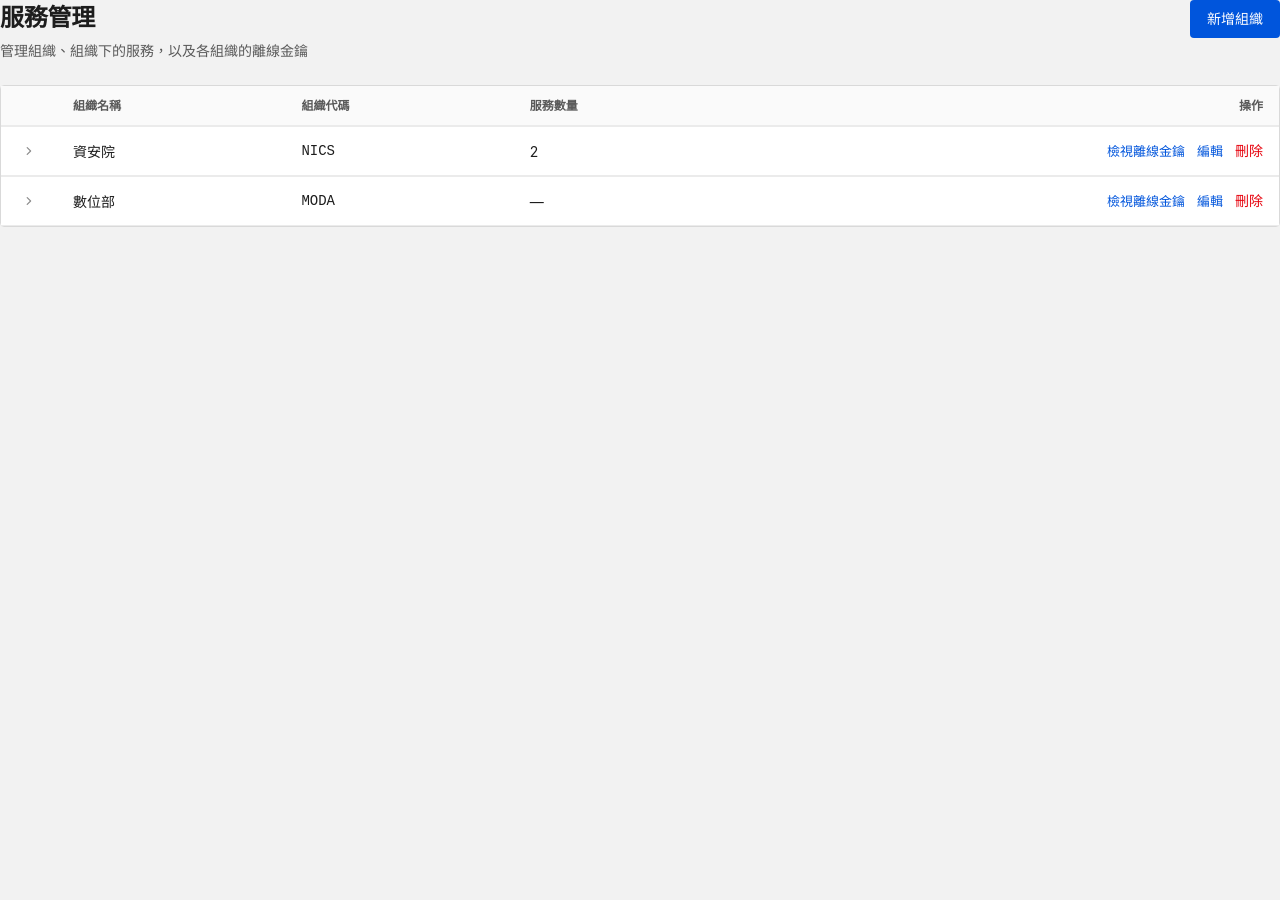
it: ServicesPage organizations › shows the API message when creating an organization fails
Expected: the text "資安院" is shown, [57, 126, 285, 176]
Click the button "新增組織" at (1235, 19), box [1190, 0, 1279, 38]
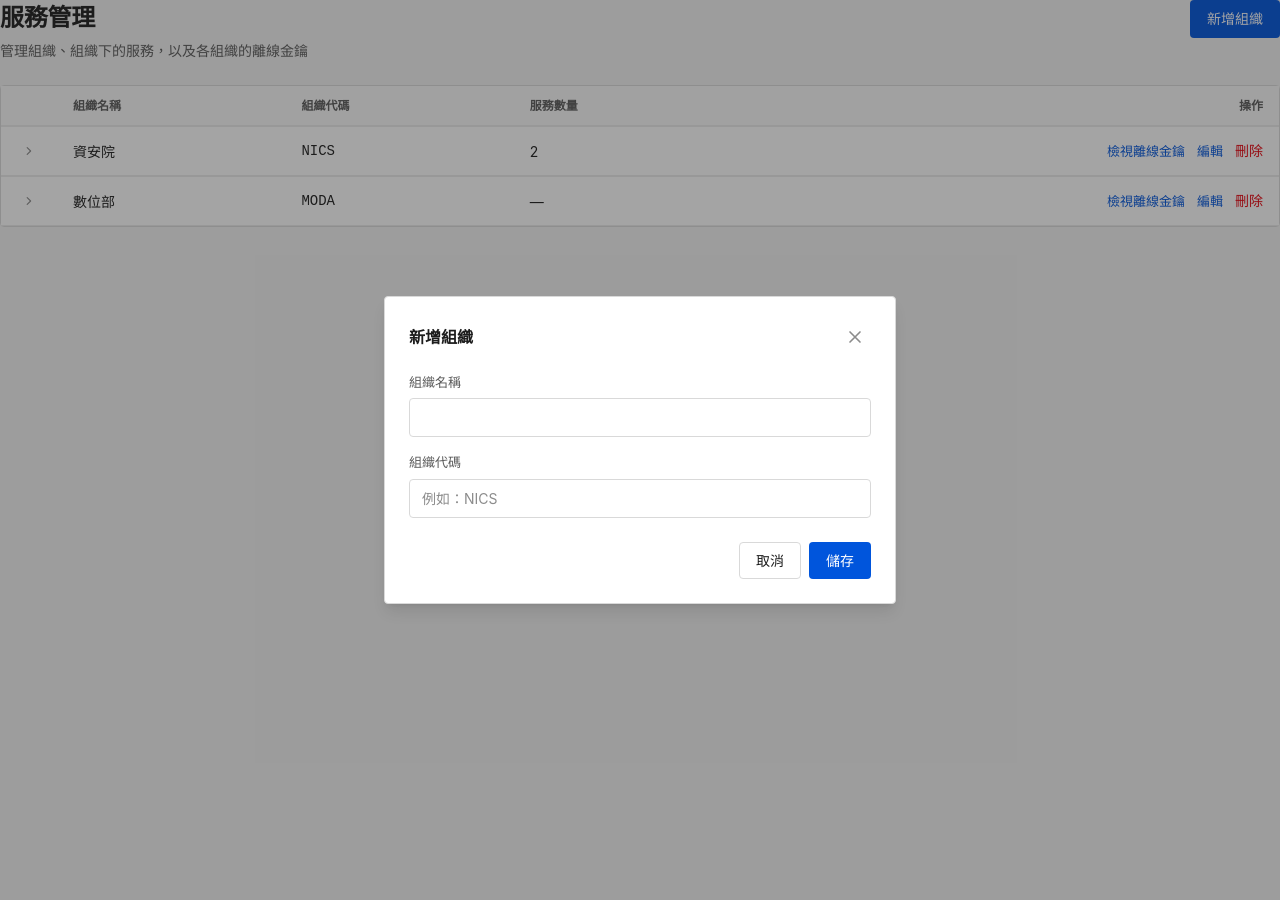
Type "新組織" into the field labelled "組織名稱" at (640, 418), box [409, 398, 871, 437]
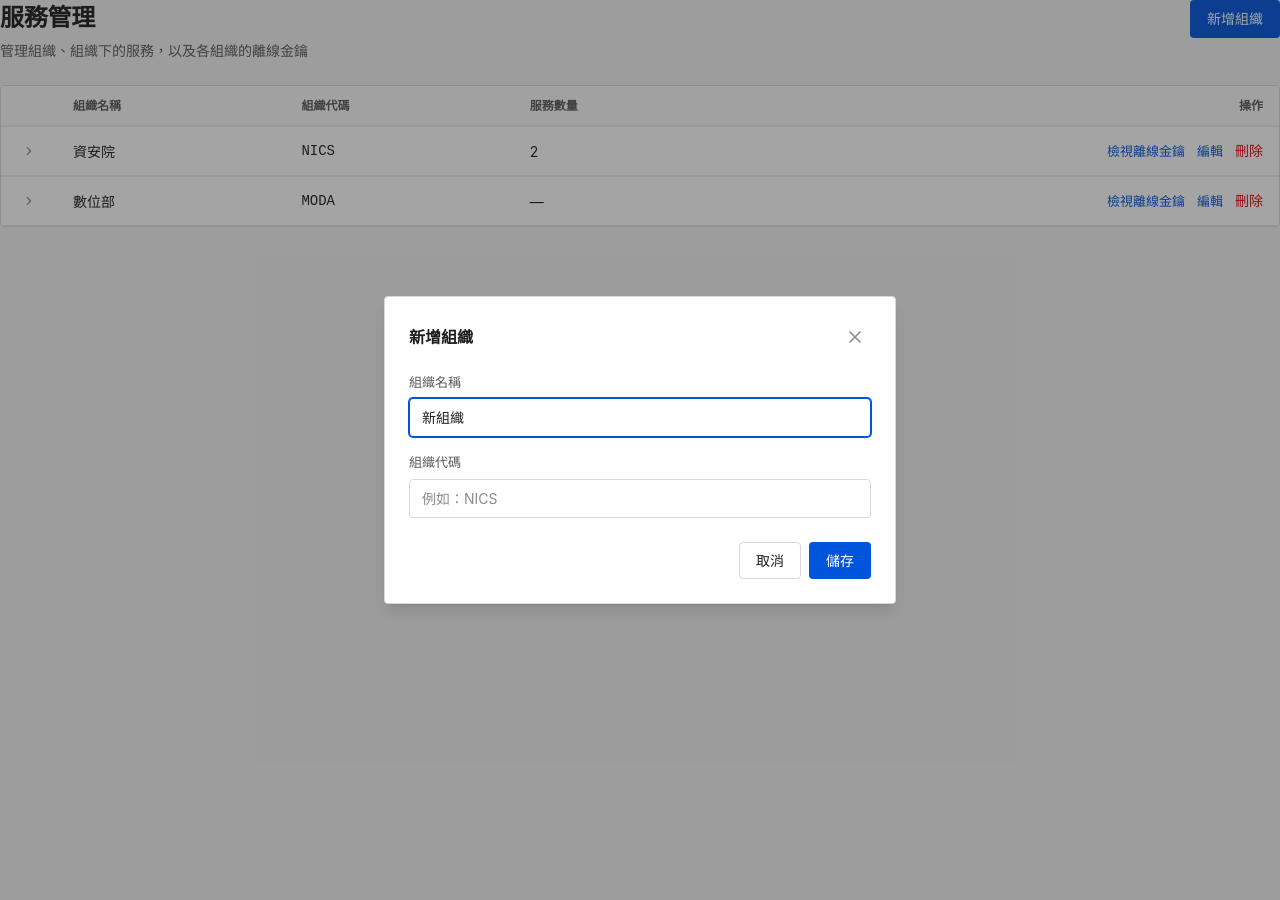
Type "NICS" into the field labelled "組織代碼" at (640, 498), box [409, 479, 871, 518]
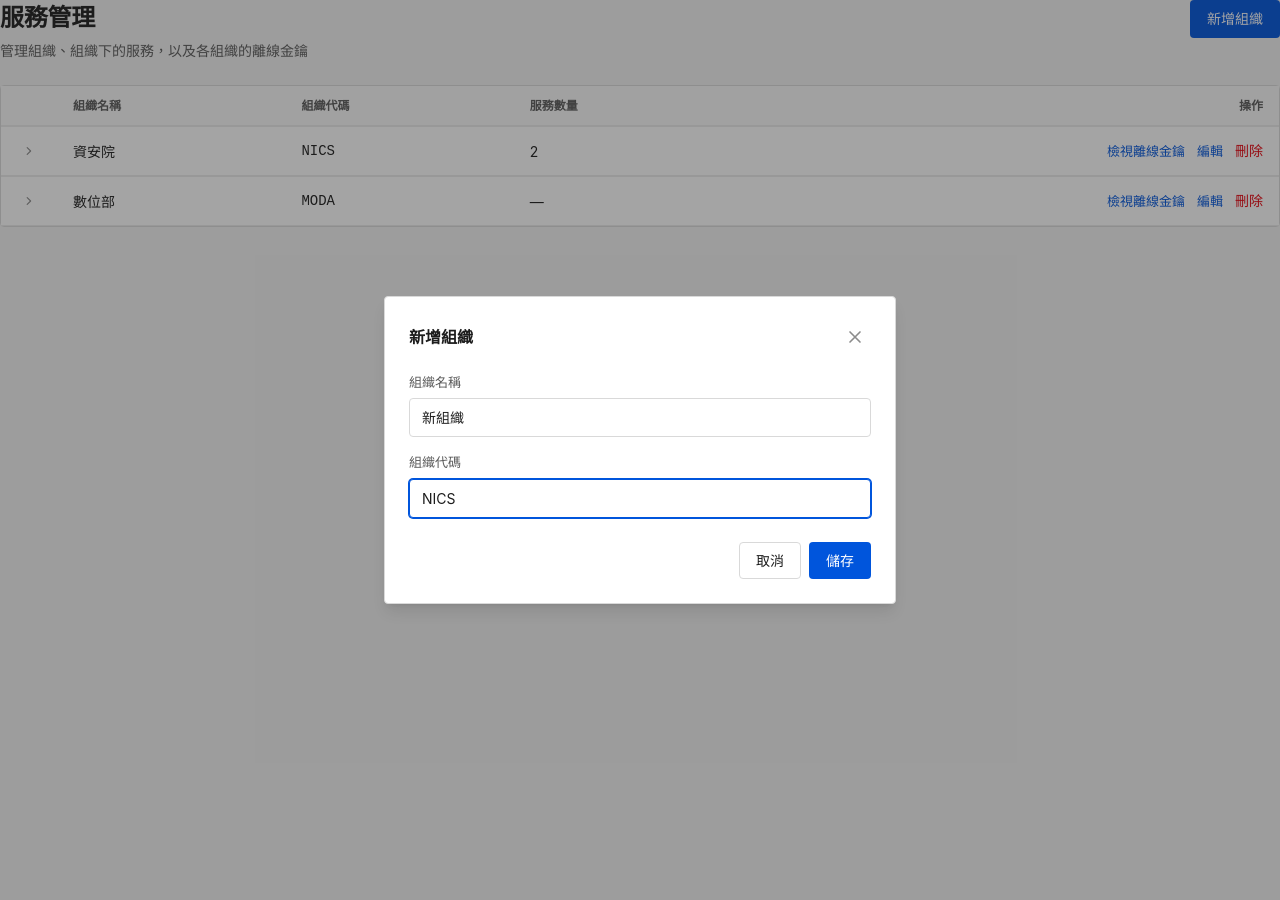
Click the button "儲存" at (840, 560), box [809, 542, 871, 579]
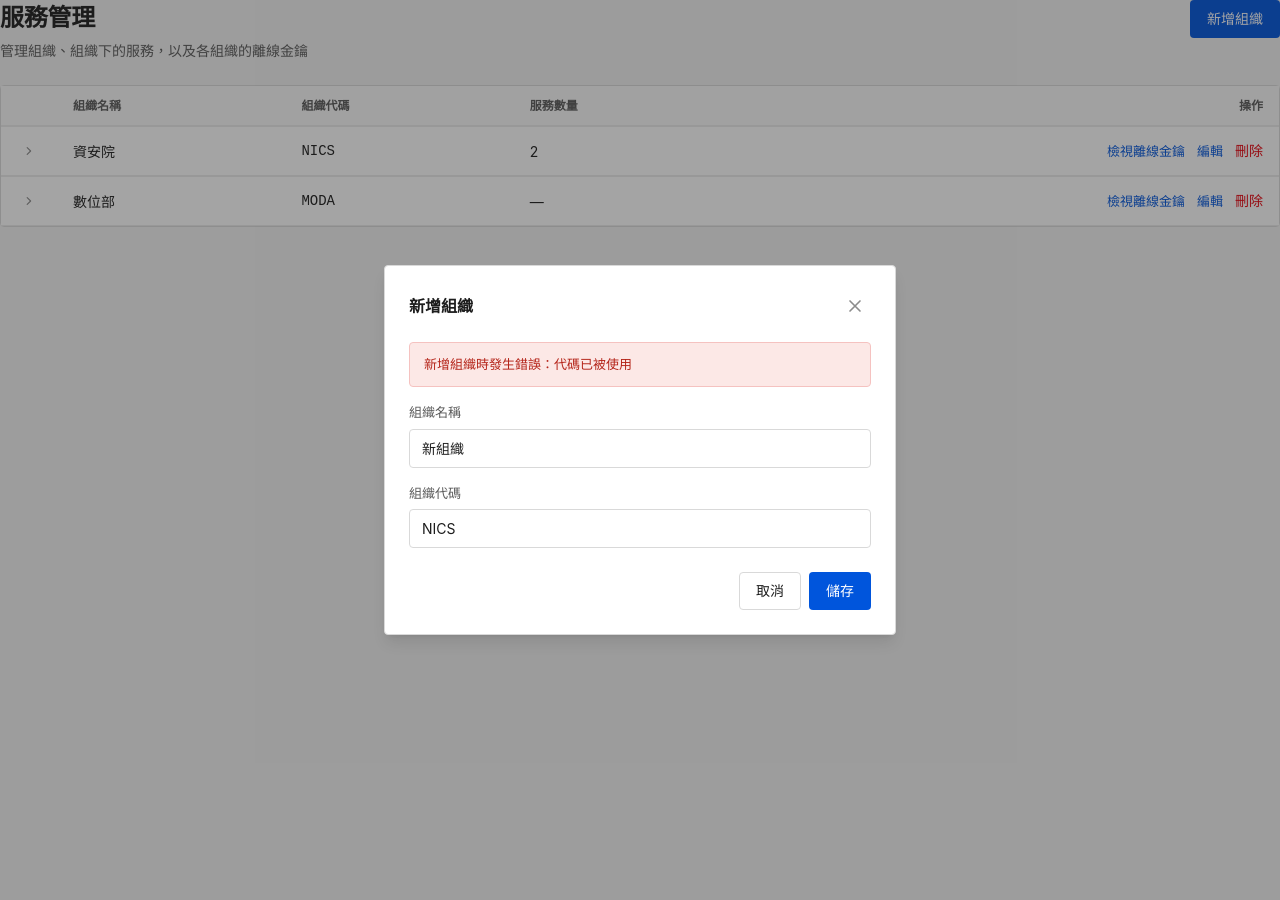
Expected: the heading "新增組織" is shown, [409, 294, 473, 318]
Expected: the text "新增組織時發生錯誤：代碼已被使用" is shown, [409, 342, 871, 388]
